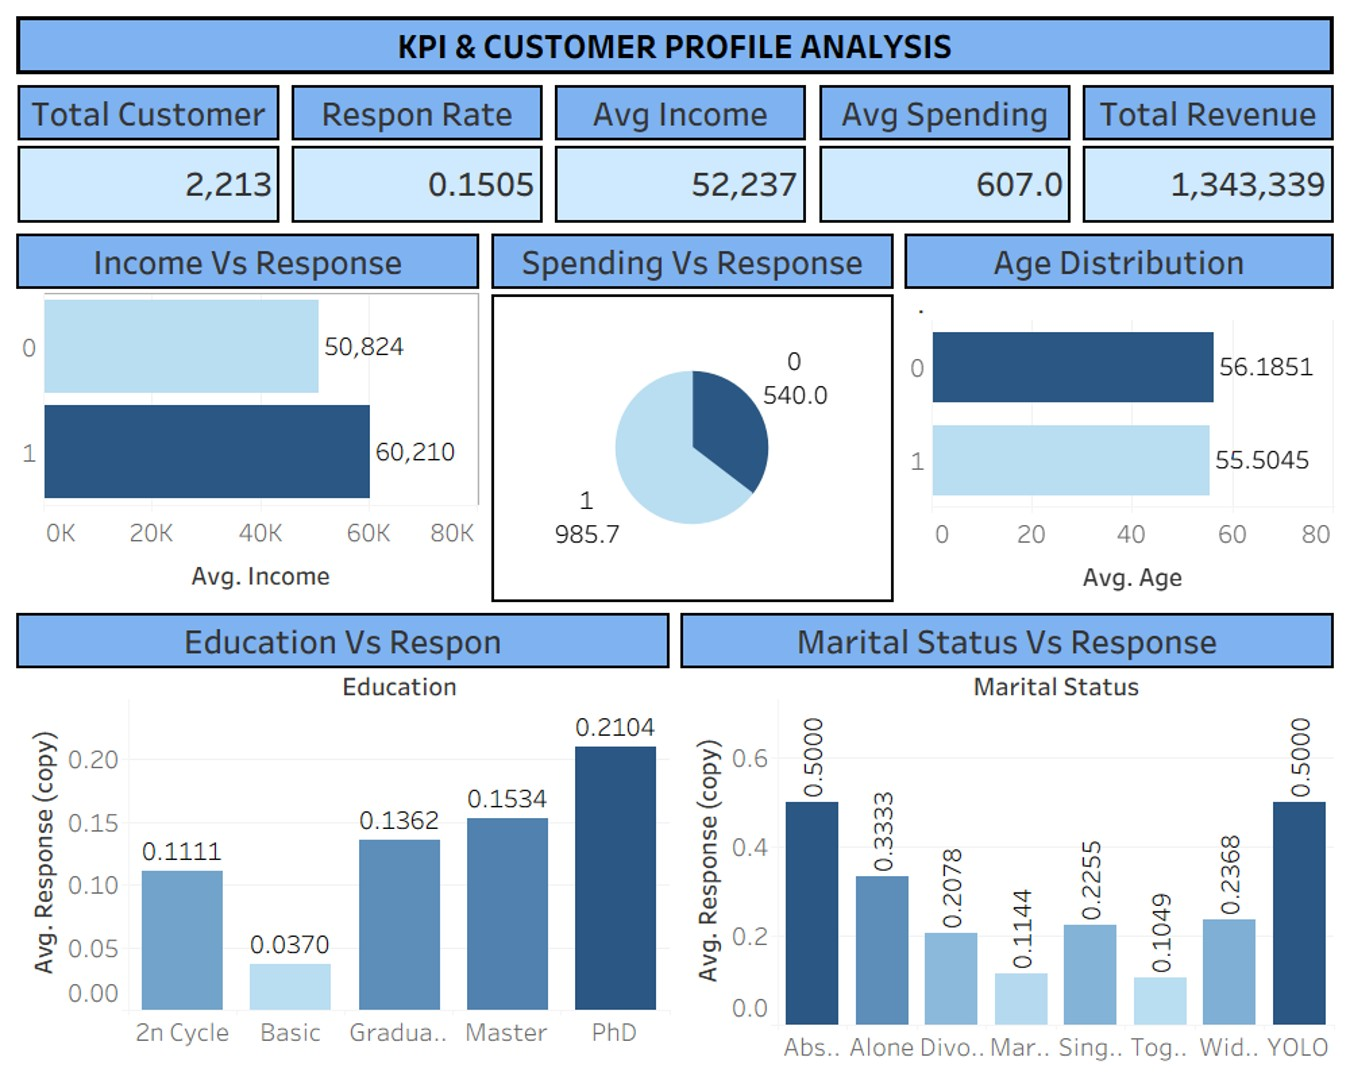

This screenshot's page, from the dashboard's own definition file:
{"tool":"tableau","page":{"name":"Dashboard 1","canvas":[1000,800],"ordinal":0},"visuals":[{"type":"text","box":[8,8,984,51.1]},{"type":"worksheet","title":"Total Customer","mark":"Automatic","box":[8,59.1,203,109.9]},{"type":"worksheet","title":"Respon Rate","mark":"Automatic","box":[211,59.1,195.2,109.9]},{"type":"worksheet","title":"Avg Income","mark":"Automatic","box":[406.2,59.1,195.2,109.9]},{"type":"worksheet","title":"Avg Spending","mark":"Automatic","box":[601.5,59.1,195.2,109.9]},{"type":"worksheet","title":"Total Revenue","mark":"Automatic","box":[796.8,59.1,195.2,109.9]},{"type":"worksheet","title":"Income Vs Response","mark":"Bar","rows":["response"],"cols":["income"],"box":[8,169,351,281.3]},{"type":"worksheet","title":"Spending Vs Response","mark":"Pie","box":[359,169,307,281.3]},{"type":"worksheet","title":"Age Distribution","mark":"Automatic","rows":["response"],"cols":["age"],"box":[666,169,326,281.3]},{"type":"worksheet","title":"Education Vs Respon","mark":"Automatic","rows":["Response (copy)_0806780486172672"],"cols":["education"],"box":[8,450.3,492,341.7]},{"type":"worksheet","title":"Marital Status Vs Response","mark":"Automatic","rows":["Response (copy)_0806780486172672"],"cols":["marital_status"],"box":[500,450.3,492,341.7]}]}

Visuals, with their boxes in screenshot pixels (x1, y1, x2, y2), scaled from the page's 1000x800 canvas onto the 1350x1080 screenshot:
text: bbox=(11, 11, 1339, 80)
"Total Customer" worksheet: bbox=(11, 80, 285, 228)
"Respon Rate" worksheet: bbox=(285, 80, 548, 228)
"Avg Income" worksheet: bbox=(548, 80, 812, 228)
"Avg Spending" worksheet: bbox=(812, 80, 1076, 228)
"Total Revenue" worksheet: bbox=(1076, 80, 1339, 228)
"Income Vs Response" worksheet (Bar marks): bbox=(11, 228, 485, 608)
"Spending Vs Response" worksheet (Pie marks): bbox=(485, 228, 899, 608)
"Age Distribution" worksheet: bbox=(899, 228, 1339, 608)
"Education Vs Respon" worksheet: bbox=(11, 608, 675, 1069)
"Marital Status Vs Response" worksheet: bbox=(675, 608, 1339, 1069)
